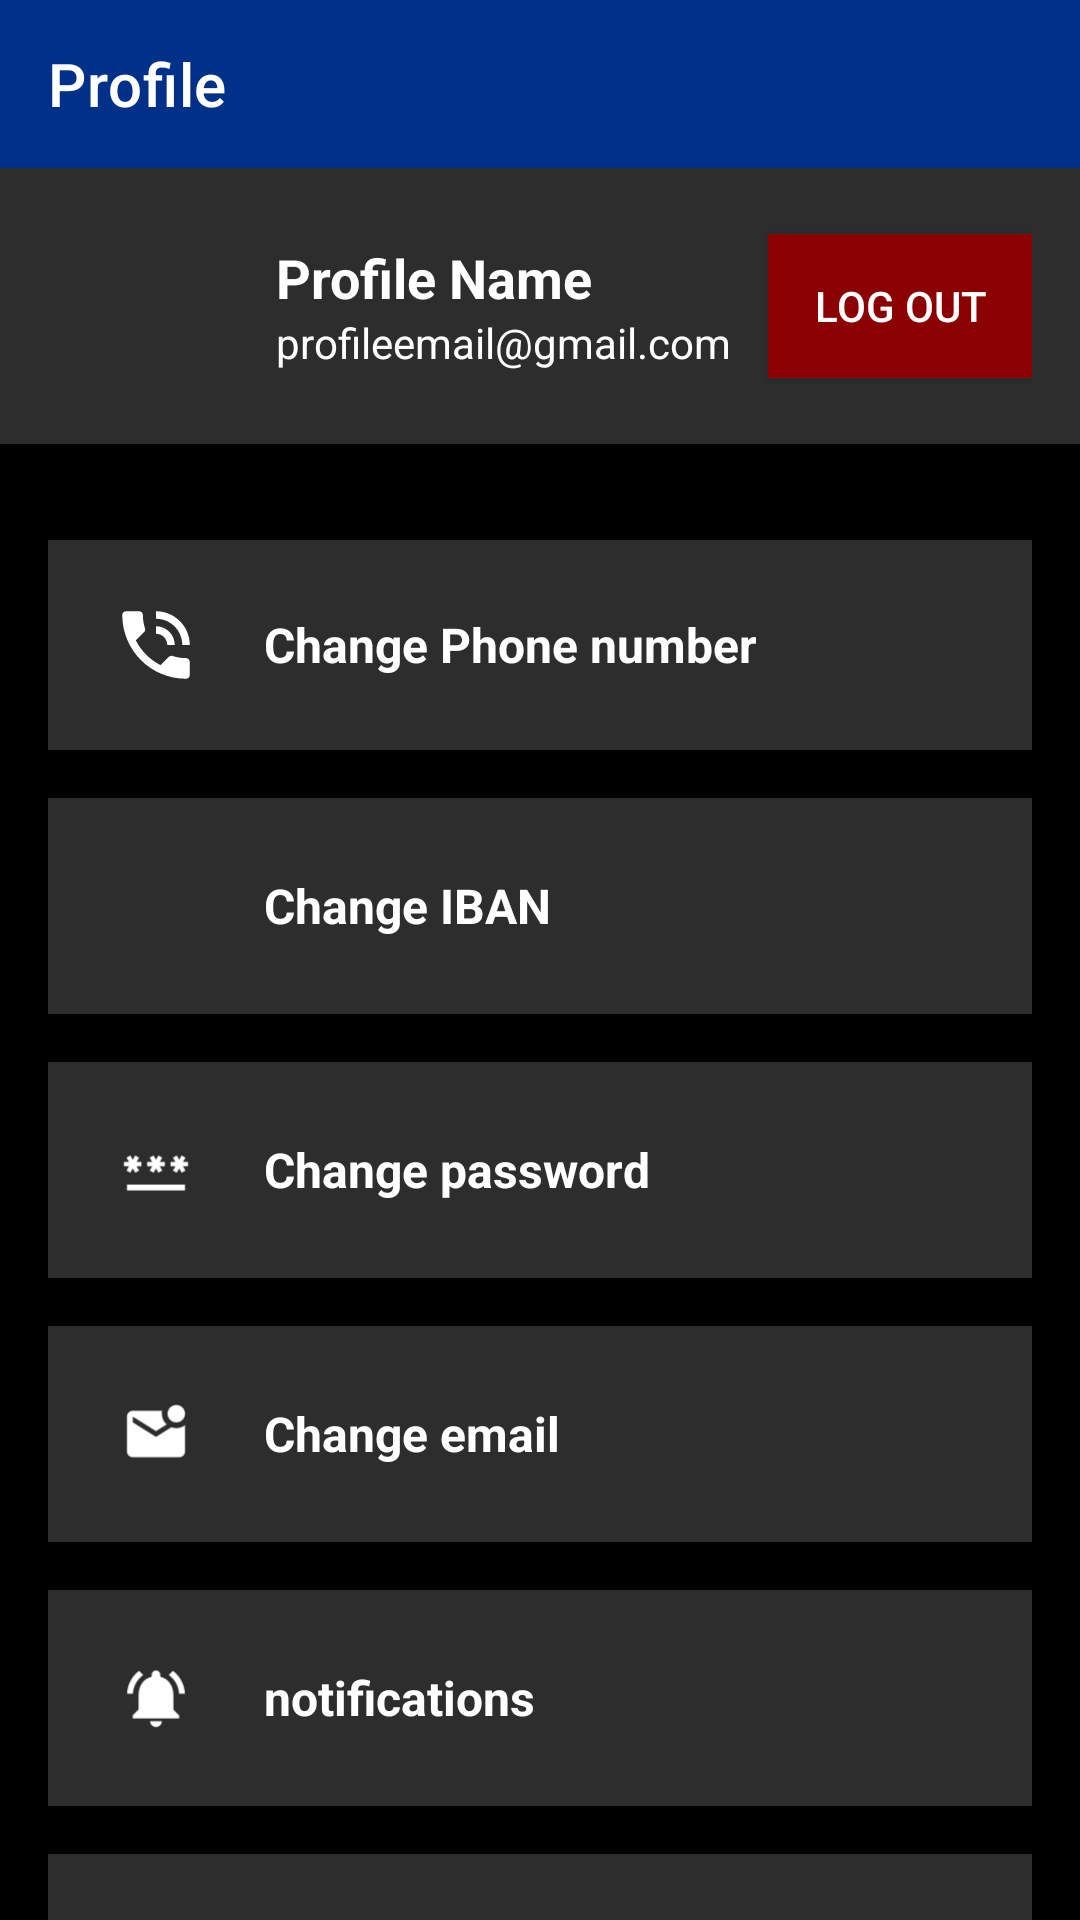

Point at icon controls on the screen. Image size 1080 × 1920, points as (x,y).
emails: (156,1431)
